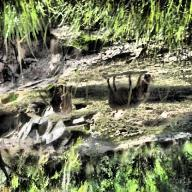boar: (94, 69, 153, 114), (45, 78, 79, 136)
